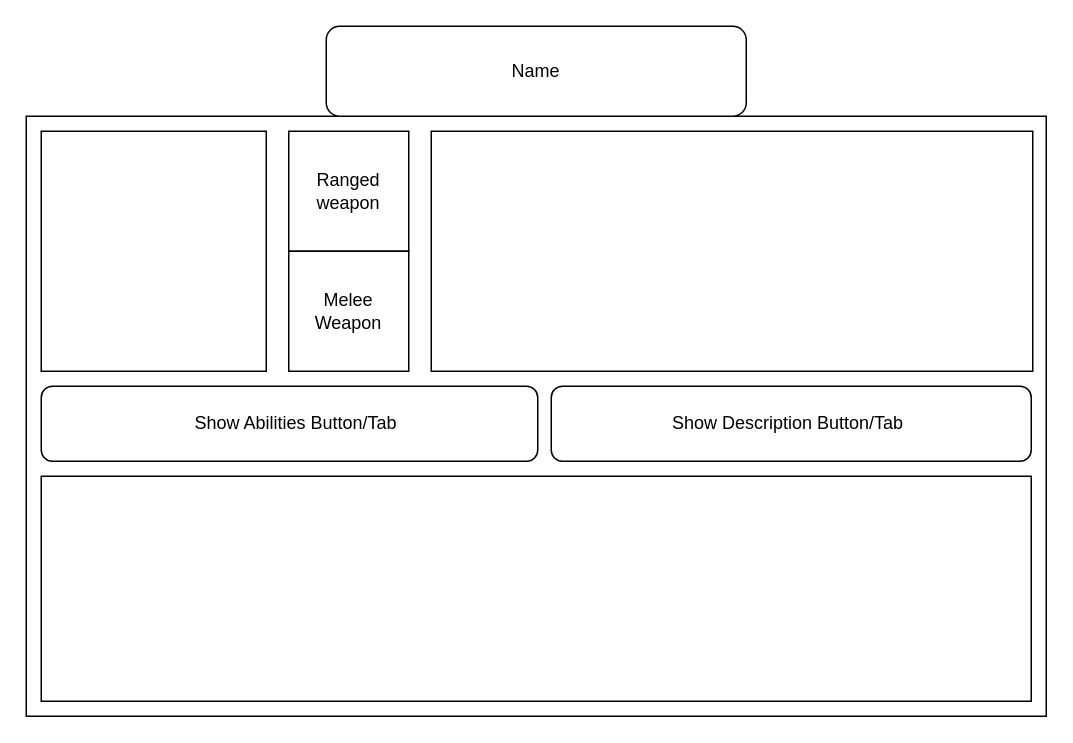
The diagram is 1073 pixels wide and 743 high, and some of its shapes have lost their labels. The centre of each missing label's shape, as x and y in pixels:
"Description / Abilities Displayed Here" goes at (535,588).
"Image/Idle Animation" goes at (153,250).
"Stat Panel" goes at (731,250).
